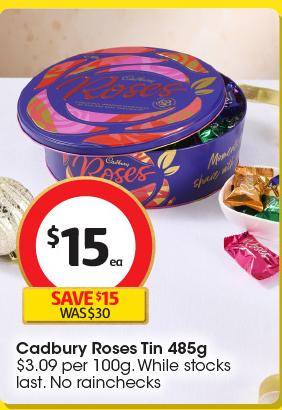description_block: (13, 335, 256, 359)
price_main: (8, 181, 156, 288)
product_image_block: (13, 31, 249, 218)
promo_text_block: (17, 284, 156, 330)
unit_price_block: (11, 352, 136, 376)
